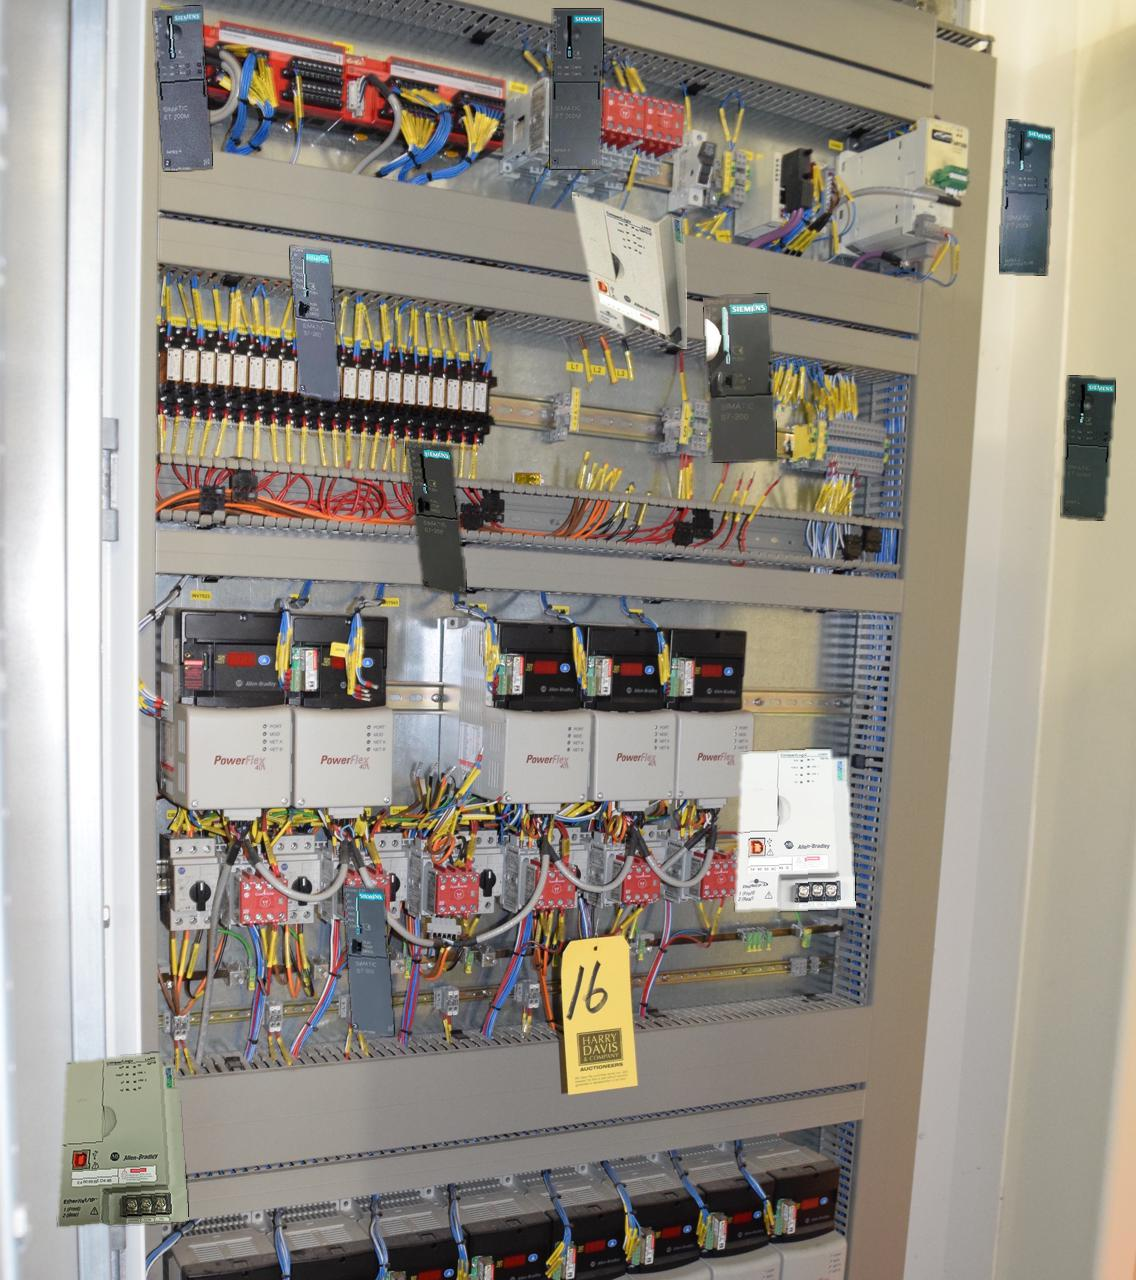AllenBradley: (58, 1053, 188, 1226), (735, 749, 855, 910), (572, 192, 686, 348)
Siemens: (703, 294, 776, 461), (405, 442, 466, 594), (289, 246, 339, 401), (343, 885, 393, 1035)
